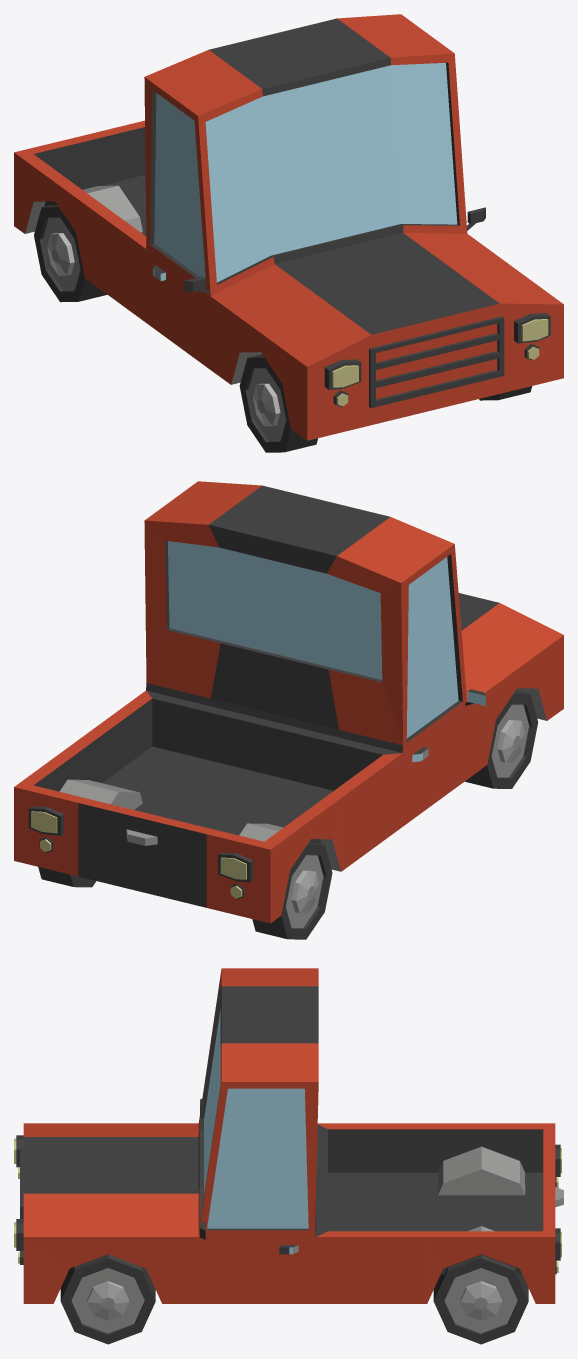
The model's file is realcarbuildpickup.fbx.
3 views of the same model, one above another, from view 1: azimuth 30°, elevation 25°; view 2: azimuth 150°, elevation 25°; view 3: azimuth 270°, elevation 25° (orthographic). The views are drawn at different scales.
Parts seen in each view (by area): view 1: Cube; view 2: Cube; view 3: Cube.
Boxes of the visible parts, box(x1,y1,x2,y2) form: Cube: box(14, 14, 563, 452); Cube: box(14, 481, 563, 939); Cube: box(14, 968, 563, 1344).
Bounding box in the file's own units: 349 × 336 × 609.
